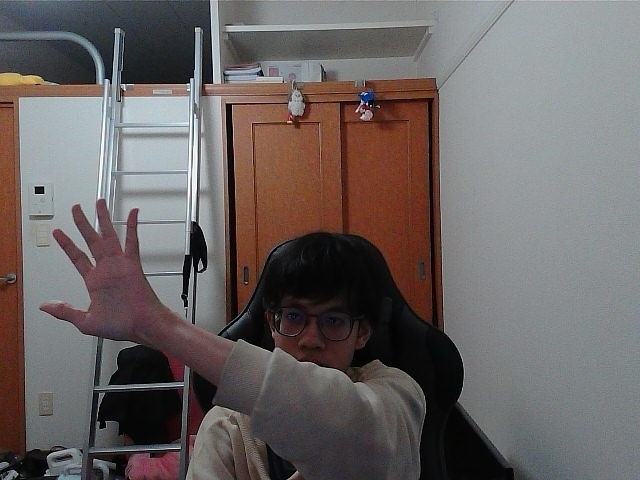open_palm: (49, 204, 136, 333)
